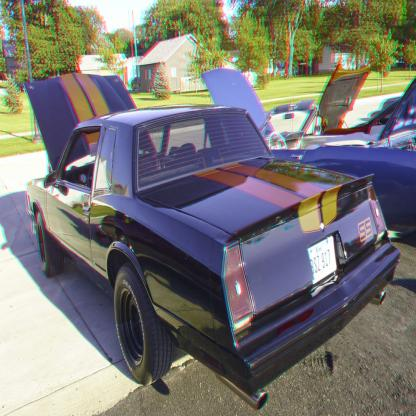Car: (27, 73, 401, 413), (201, 69, 416, 227)
